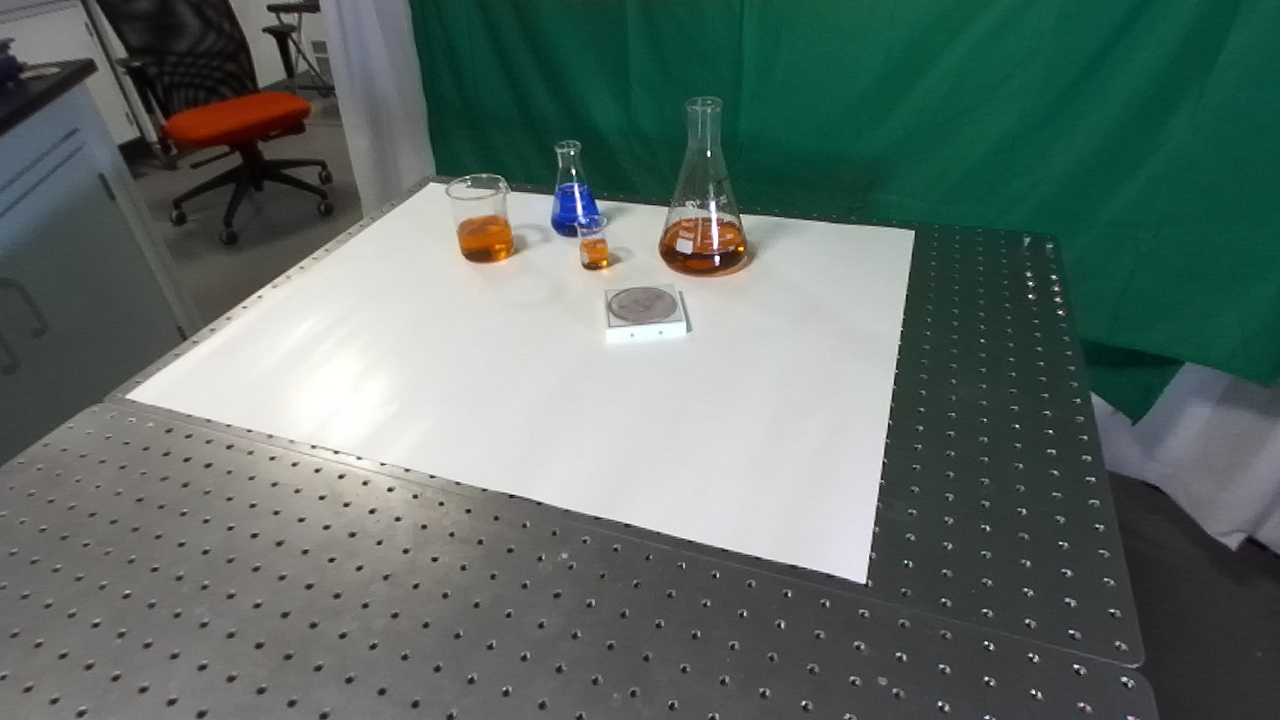glass: (654, 93, 752, 280), (441, 171, 517, 266), (549, 137, 603, 243), (574, 213, 612, 273)
plate: (602, 280, 690, 345)
